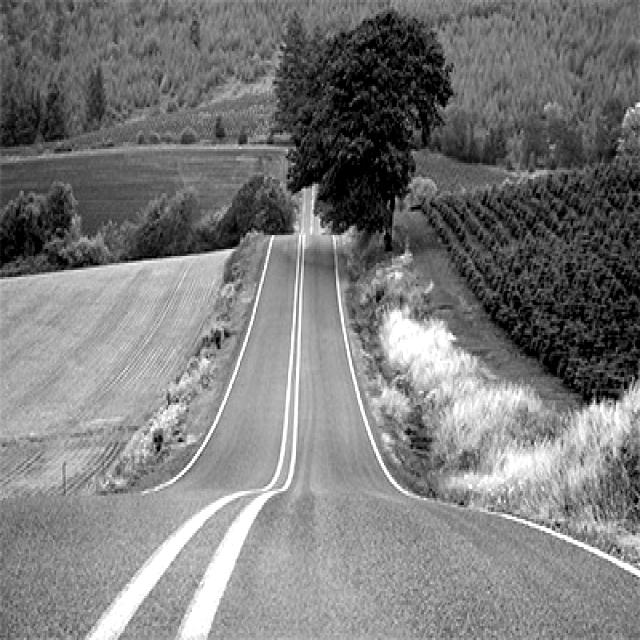cleat: (18, 270, 571, 640)
